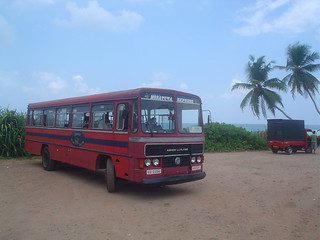bus: (23, 87, 206, 193)
truck: (266, 118, 319, 155)
